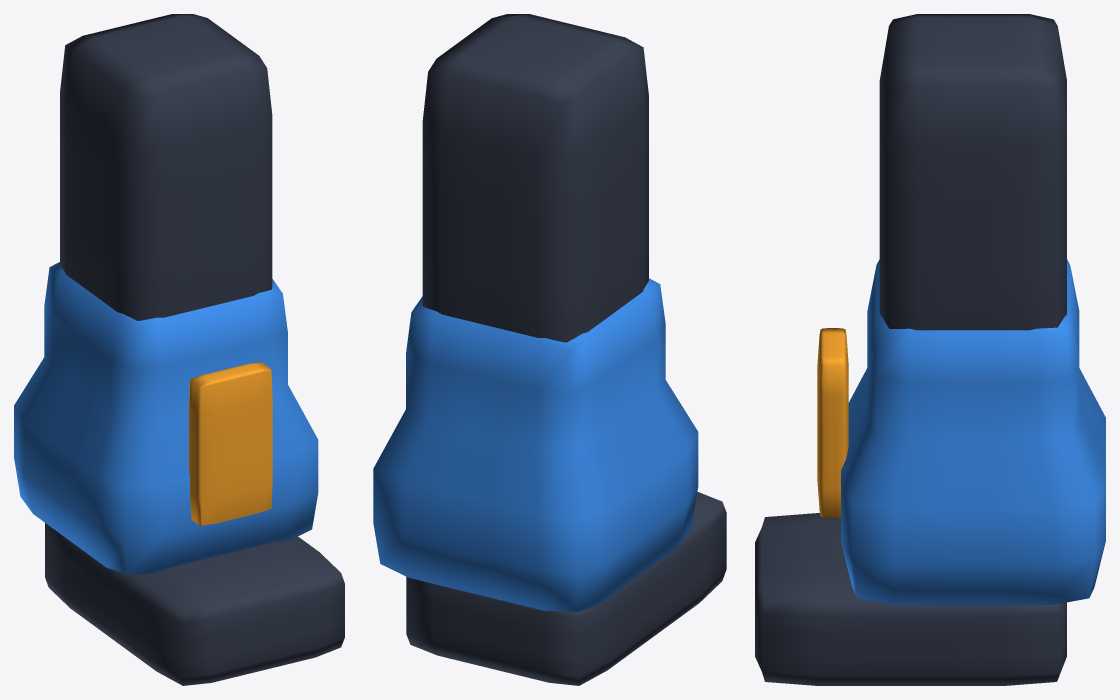
File: leg_hakama.obj
3 views of the same model, side by side, from view 1: azimuth 30°, elevation 25°; view 2: azimuth 150°, elevation 25°; view 3: azimuth 270°, elevation 25° (orthographic). The views are drawn at different scales.
Size of the model in its own units: 0.34 by 0.86 by 0.45.
